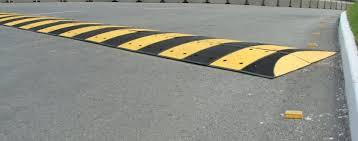Bump: (0, 12, 338, 78)
